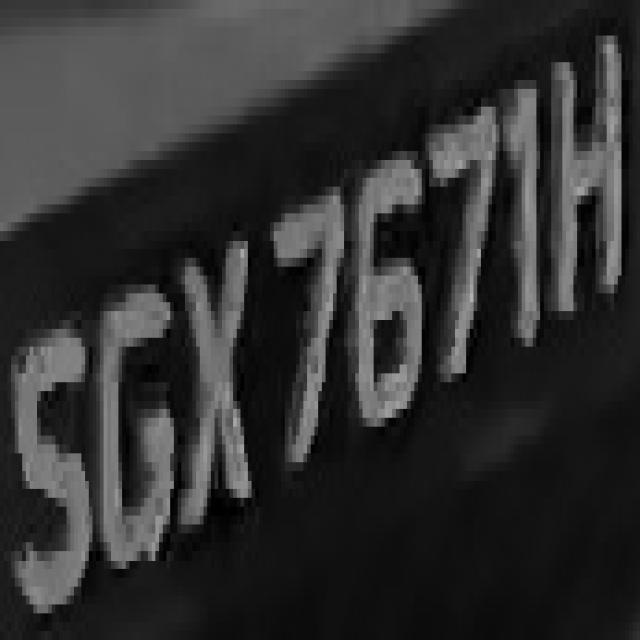1: (511, 45, 551, 382)
6: (340, 142, 429, 436)
7: (259, 169, 351, 515), (414, 80, 507, 409)
G: (92, 249, 178, 613)
H: (544, 26, 629, 338)
S: (4, 311, 96, 613)
X: (174, 213, 266, 551)
